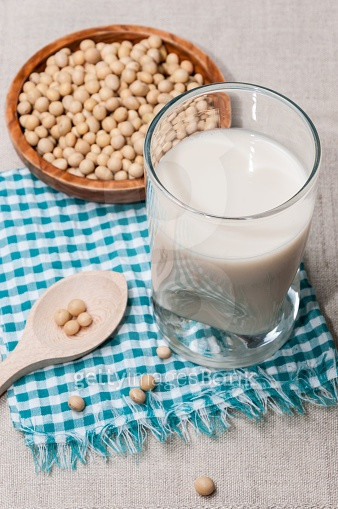glass of milk: (140, 75, 323, 374)
